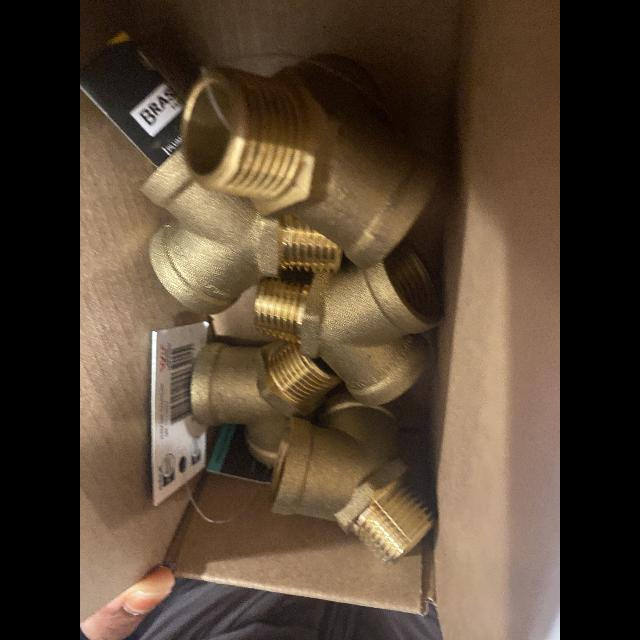Brass: (178, 65, 439, 268), (141, 152, 340, 316), (256, 240, 442, 403), (269, 392, 435, 560), (190, 339, 345, 465), (318, 53, 384, 102)
